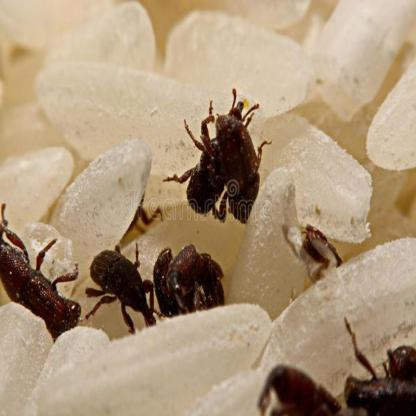rice-bug: (0, 200, 85, 344), (184, 96, 270, 220), (347, 313, 416, 416), (91, 232, 152, 340), (255, 347, 345, 416), (154, 244, 228, 320), (300, 216, 350, 270)
